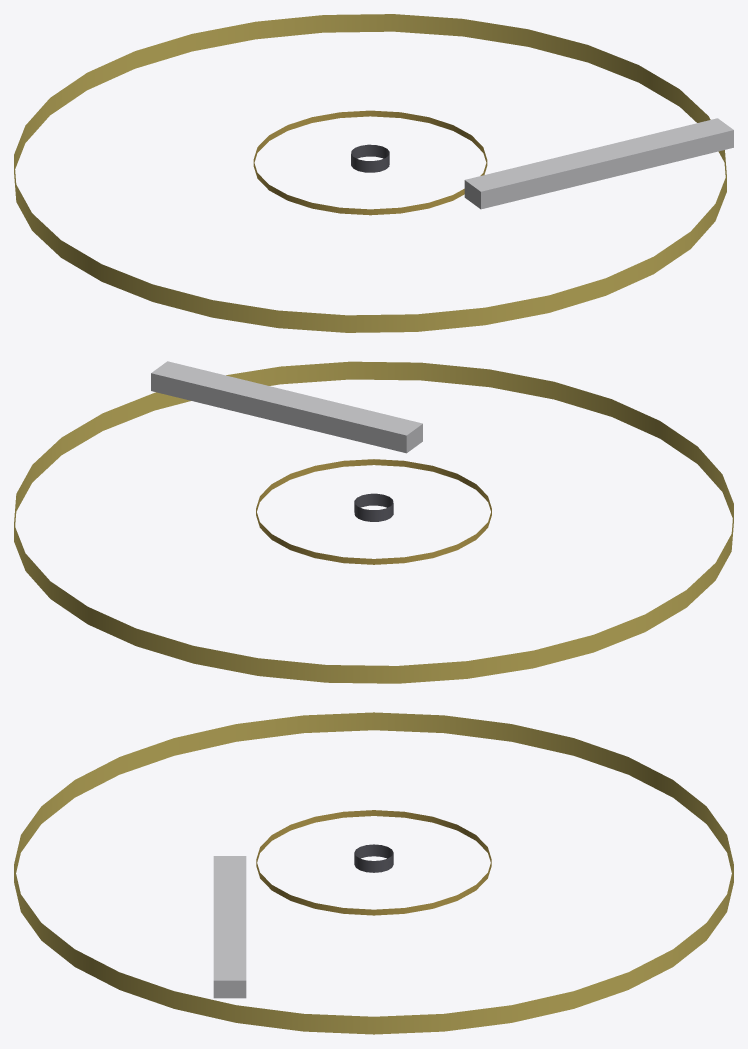
Rendered from voyager_golden_record.glb.
3 views of the same model, one above another, from view 1: azimuth 30°, elevation 25°; view 2: azimuth 150°, elevation 25°; view 3: azimuth 270°, elevation 25° (orthographic).
Bounding box in the file's own units: 1.1 × 0.07 × 1.1.
